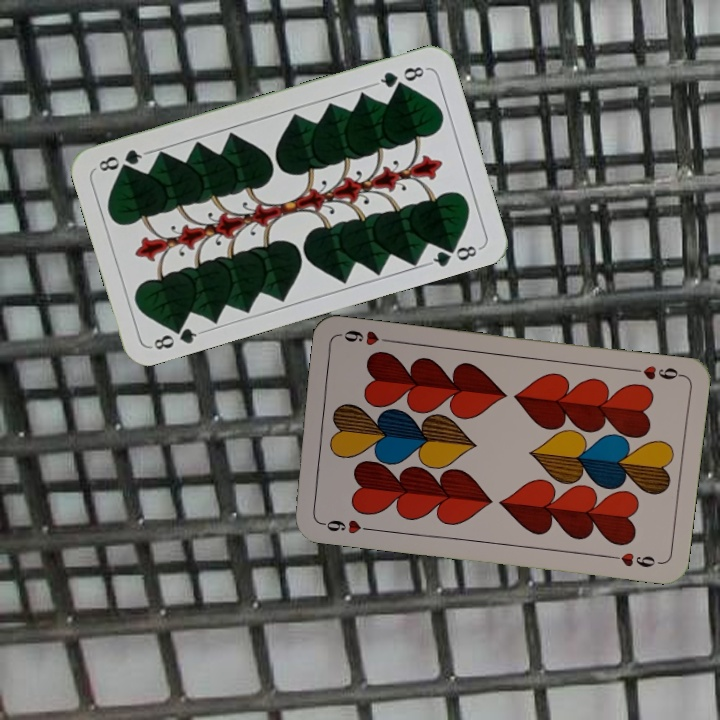G8: (150, 319, 206, 353), (372, 62, 430, 90)
H9: (315, 515, 374, 537), (626, 361, 685, 382)
